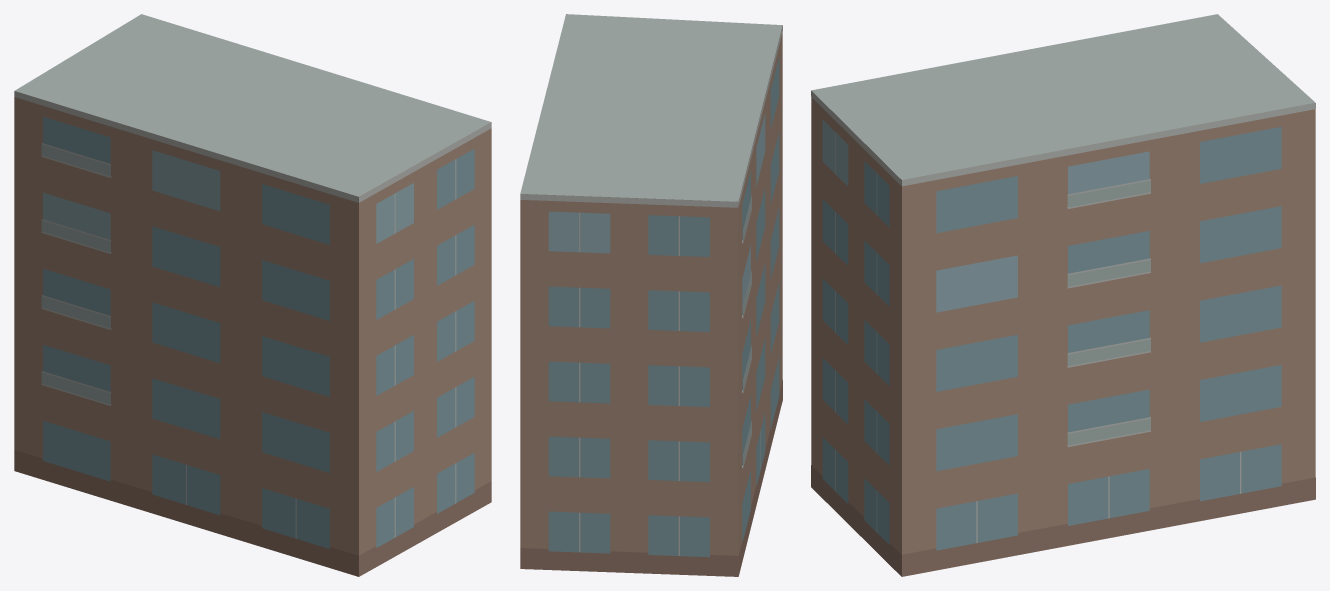
The model's file is survey-upis-32880190.glb.
3 renders of one model, left to right at view 1: azimuth 30°, elevation 25°; view 2: azimuth 150°, elevation 25°; view 3: azimuth 270°, elevation 25°, orthographic. The views are drawn at different scales.
Visible parts, largest first — view 1: survey-upis-32880190.tmp; view 2: survey-upis-32880190.tmp; view 3: survey-upis-32880190.tmp.
Boxes of the visible parts, x1=… form: survey-upis-32880190.tmp: x1=14, y1=14, x2=491, y2=576; survey-upis-32880190.tmp: x1=520, y1=14, x2=782, y2=576; survey-upis-32880190.tmp: x1=811, y1=14, x2=1315, y2=576.
Bounding box in the file's own units: 13.7 × 15.25 × 17.59.
